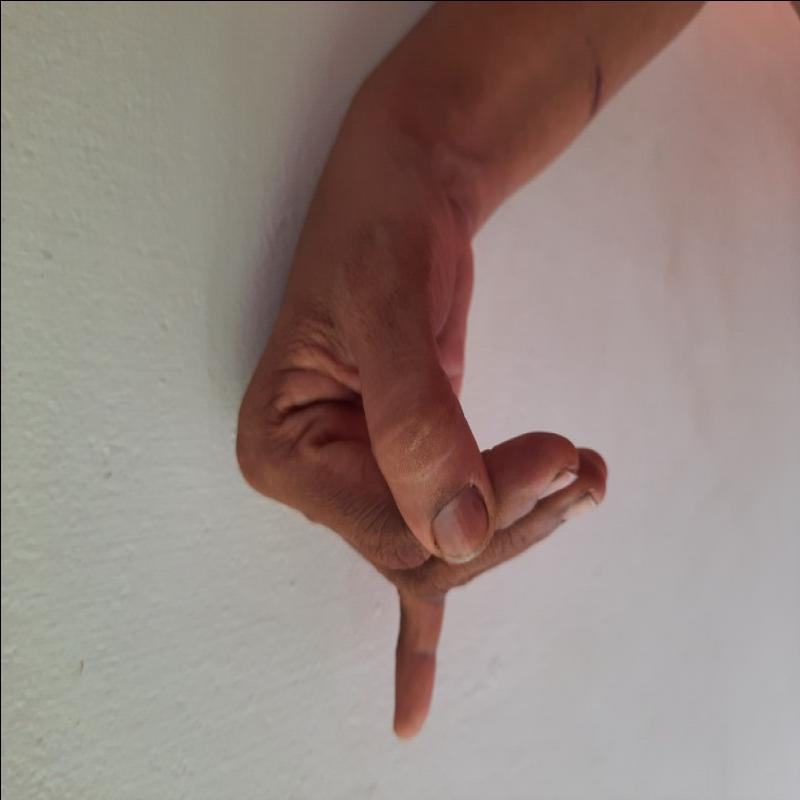Kartharee Mukham: (223, 157, 618, 752)
